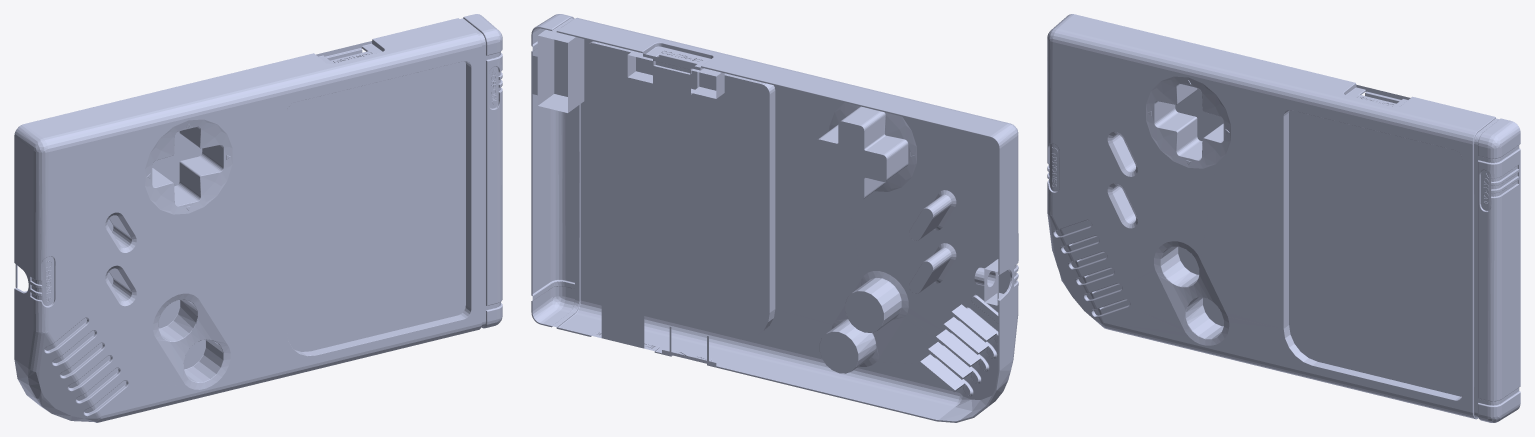
File: gbobj_case_top.obj
3 renders of one model, left to right at view 1: azimuth 30°, elevation 25°; view 2: azimuth 150°, elevation 25°; view 3: azimuth 330°, elevation 25°, orthographic. The views are drawn at different scales.
Visible parts, largest first — view 1: case.002; view 2: case.002; view 3: case.002.
Boxes of the visible parts, <box> form: case.002: <box>14,14,502,422</box>; case.002: <box>531,14,1018,422</box>; case.002: <box>1047,14,1520,422</box>.
Size of the model in its own units: 44.4 by 27 by 3.92.
